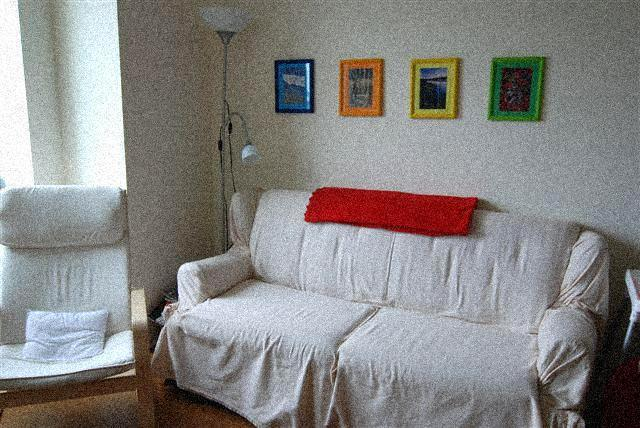Otro Obstaculo: (199, 4, 266, 183)
